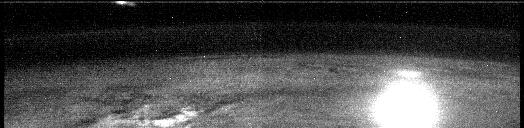positive: (395, 67, 424, 80)
